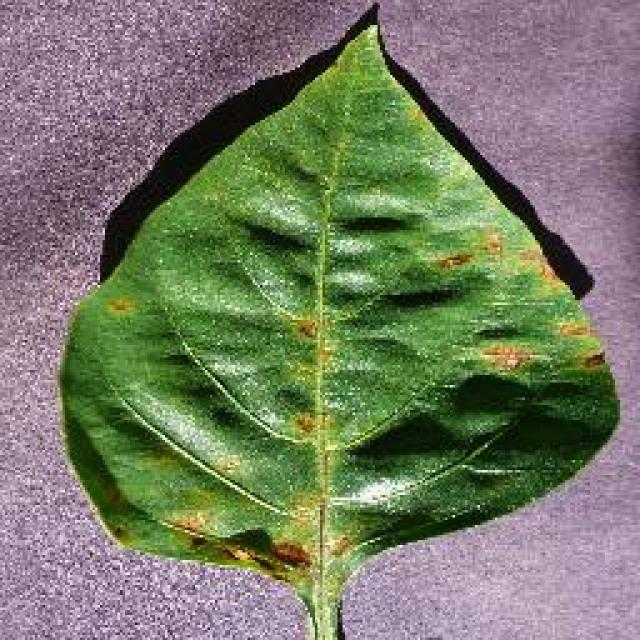Chilli_Bacterial_Spot: (52, 0, 622, 638), (425, 220, 610, 380), (470, 320, 608, 380), (475, 337, 543, 375), (268, 535, 312, 570), (430, 245, 478, 275), (100, 292, 140, 322), (210, 448, 245, 480), (220, 540, 258, 568), (288, 408, 320, 438), (290, 312, 320, 342), (325, 530, 355, 560), (477, 228, 505, 260), (575, 348, 607, 372)
